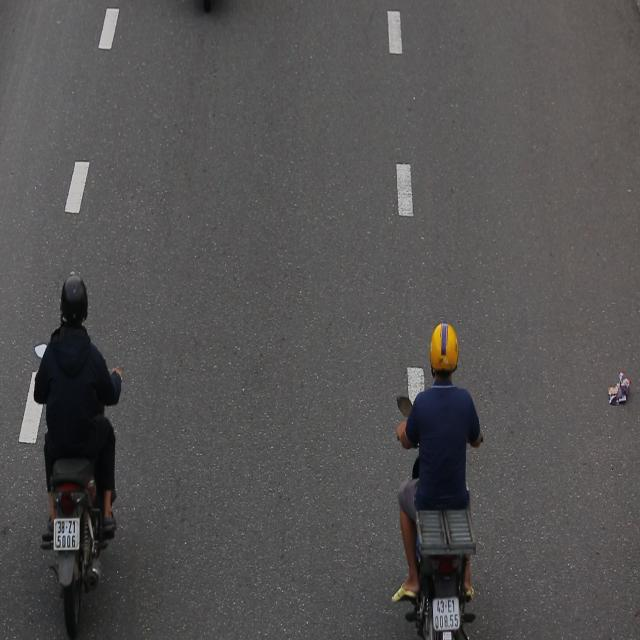motorbike: (30, 265, 126, 639), (391, 312, 488, 640)
